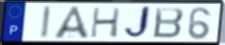6: (187, 6, 213, 41)
A: (52, 5, 92, 40)
B: (152, 7, 185, 40)
H: (89, 6, 123, 39)
I: (40, 5, 54, 40)
J: (122, 5, 153, 41)
